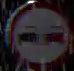No overtake: (4, 0, 71, 69)
